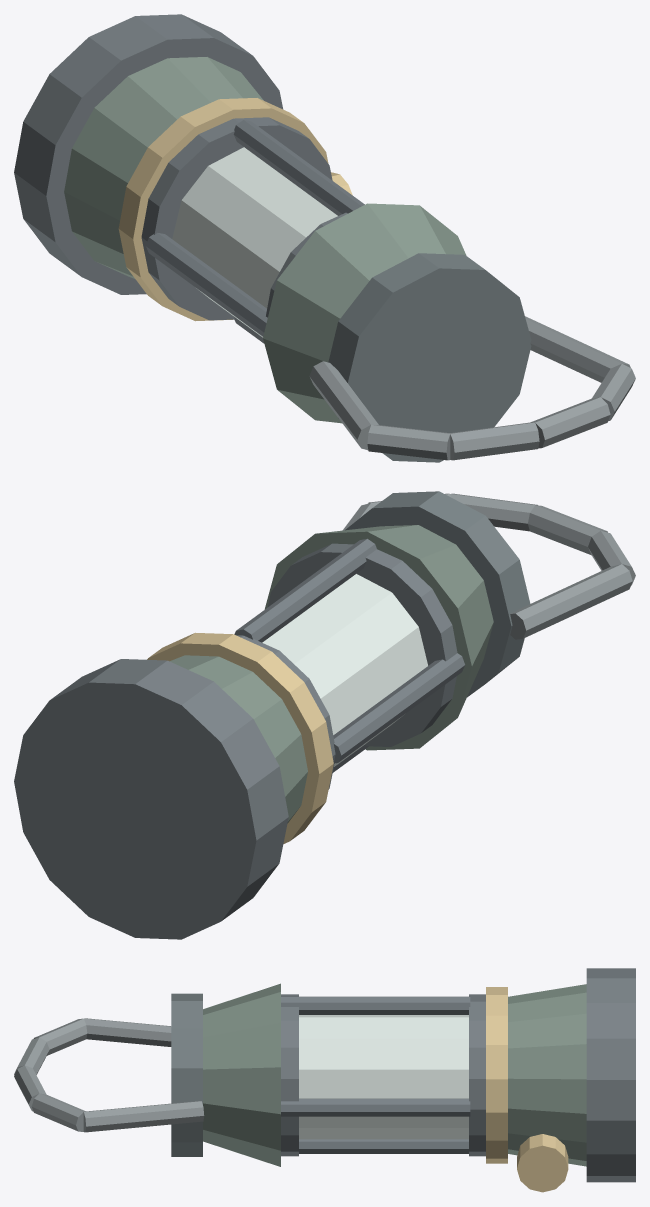
The model's file is 10_emergency_lantern.glb.
3 views of the same model, one above another, from view 1: azimuth 30°, elevation 25°; view 2: azimuth 150°, elevation 25°; view 3: azimuth 270°, elevation 25° (orthographic). The views are drawn at different scales.
Parts seen in each view (by area): view 1: vent_cap_0014, lantern_foot_0001, chimney_0013, fuel_reservoir_0002, glass_lantern_chamber_0004, chamber_lower_guard_0007, base_brass_trim_0003, wire_protective_guard_0011, wire_protective_guard_0010, foldable_arched_handle_0020, foldable_arched_handle_0017, foldable_arched_handle_0015 (+3 smaller); view 2: lantern_foot_0001, glass_lantern_chamber_0004, chimney_0013, vent_cap_0014, chamber_top_guard_0008, base_brass_trim_0003, fuel_reservoir_0002, wire_protective_guard_0011, wire_protective_guard_0010, foldable_arched_handle_0015, foldable_arched_handle_0017, foldable_arched_handle_0018 (+2 smaller); view 3: glass_lantern_chamber_0004, fuel_reservoir_0002, chimney_0013, lantern_foot_0001, vent_cap_0014, base_brass_trim_0003, wire_protective_guard_0009, wire_protective_guard_0010, chamber_lower_guard_0007, foldable_arched_handle_0020, wire_protective_guard_0012, chamber_top_guard_0008 (+6 smaller).
Boxes of the visible parts, box(x1,y1,x2,y2) form: vent_cap_0014: box(328, 253, 531, 462); lantern_foot_0001: box(14, 14, 283, 294); chimney_0013: box(263, 203, 466, 423); fuel_reservoir_0002: box(64, 57, 263, 278); glass_lantern_chamber_0004: box(172, 147, 337, 337); chamber_lower_guard_0007: box(141, 117, 332, 320); base_brass_trim_0003: box(118, 98, 328, 321); wire_protective_guard_0011: box(146, 233, 267, 336); wire_protective_guard_0010: box(233, 120, 364, 215); foldable_arched_handle_0020: box(525, 316, 630, 382); foldable_arched_handle_0017: box(450, 422, 539, 460); foldable_arched_handle_0015: box(309, 361, 378, 450); lantern_foot_0001: box(14, 659, 288, 939); glass_lantern_chamber_0004: box(262, 574, 427, 766); chimney_0013: box(264, 525, 493, 750); vent_cap_0014: box(345, 491, 530, 697); chamber_top_guard_0008: box(268, 543, 457, 746); base_brass_trim_0003: box(147, 632, 333, 843); fuel_reservoir_0002: box(170, 655, 307, 823); wire_protective_guard_0011: box(333, 653, 464, 763); wire_protective_guard_0010: box(234, 538, 376, 642); foldable_arched_handle_0015: box(510, 564, 632, 639); foldable_arched_handle_0017: box(528, 505, 607, 555); foldable_arched_handle_0018: box(450, 493, 537, 531); glass_lantern_chamber_0004: box(299, 1015, 468, 1139); fuel_reservoir_0002: box(508, 984, 586, 1166); chimney_0013: box(203, 983, 280, 1166); lantern_foot_0001: box(586, 968, 635, 1182); vent_cap_0014: box(171, 993, 202, 1156); base_brass_trim_0003: box(486, 987, 507, 1163); wire_protective_guard_0009: box(281, 1098, 470, 1116); wire_protective_guard_0010: box(281, 996, 470, 1014); chamber_lower_guard_0007: box(469, 994, 485, 1156); foldable_arched_handle_0020: box(83, 1101, 204, 1132); wire_protective_guard_0012: box(299, 1139, 468, 1153); chamber_top_guard_0008: box(281, 994, 298, 1156).
Bounding box in the file's own units: 0.3367 × 0.29 × 0.8431.
